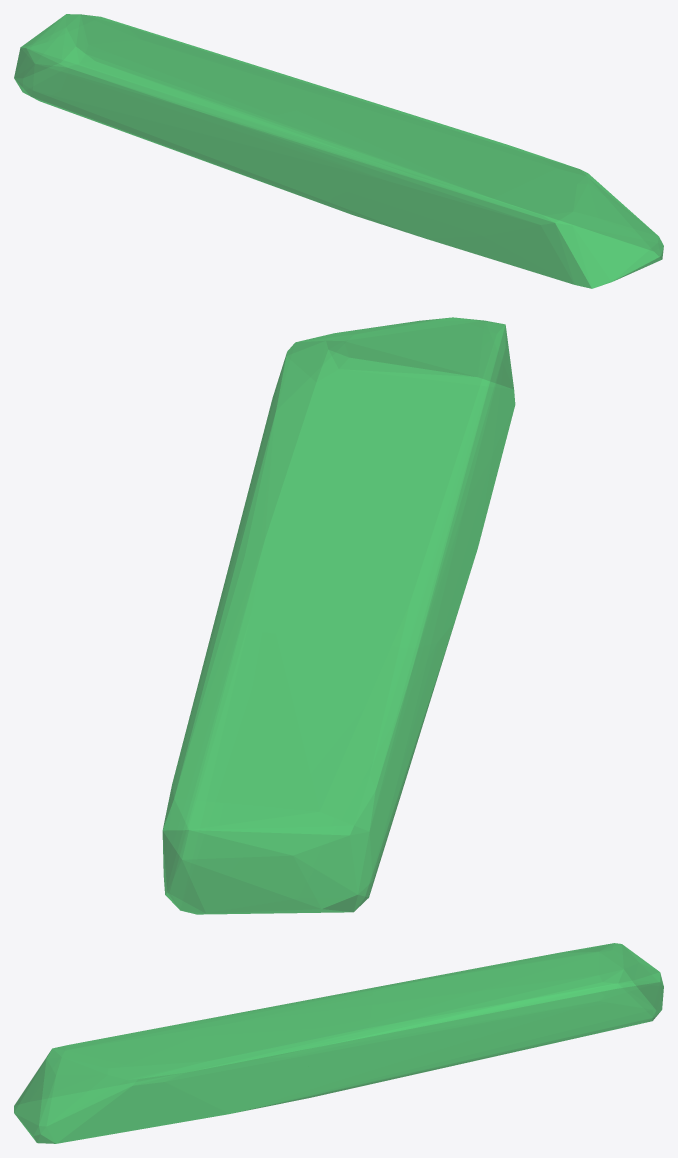
3 views of the same model, one above another, from view 1: azimuth 30°, elevation 25°; view 2: azimuth 150°, elevation 25°; view 3: azimuth 270°, elevation 25° (orthographic). The views are drawn at different scales.
Parts seen in each view (by area): view 1: Shape_IndexedFaceSet.001_Shape_IndexedFaceSet.4871; view 2: Shape_IndexedFaceSet.001_Shape_IndexedFaceSet.4871; view 3: Shape_IndexedFaceSet.001_Shape_IndexedFaceSet.4871.
Boxes of the visible parts, x1=… form: Shape_IndexedFaceSet.001_Shape_IndexedFaceSet.4871: x1=14, y1=14, x2=663, y2=288; Shape_IndexedFaceSet.001_Shape_IndexedFaceSet.4871: x1=162, y1=317, x2=515, y2=914; Shape_IndexedFaceSet.001_Shape_IndexedFaceSet.4871: x1=14, y1=943, x2=663, y2=1143.
Bounding box in the file's own units: 0.0714 × 0.0127 × 0.1312.
